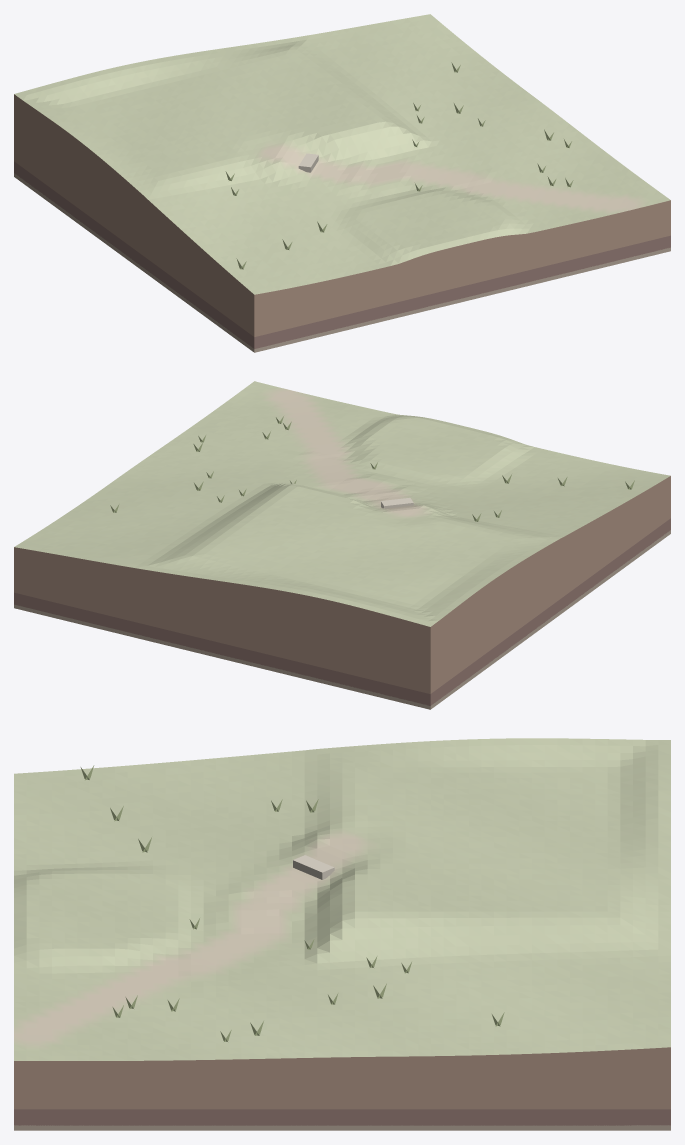
3 views of the same model, one above another, from view 1: azimuth 30°, elevation 25°; view 2: azimuth 150°, elevation 25°; view 3: azimuth 270°, elevation 25° (orthographic). The views are drawn at different scales.
Visible parts, largest first — view 1: proc_ground, proc_skirt, proc_grass; view 2: proc_ground, proc_skirt, proc_grass; view 3: proc_ground, proc_skirt, proc_grass, proc_steps.
Part boxes in pixels (x1,y1,x2,y2): proc_ground: [14, 14, 670, 294]; proc_skirt: [14, 94, 670, 352]; proc_grass: [225, 62, 573, 269]; proc_ground: [14, 381, 670, 626]; proc_skirt: [14, 476, 670, 709]; proc_grass: [110, 416, 634, 521]; proc_ground: [14, 738, 670, 1060]; proc_skirt: [14, 1047, 670, 1130]; proc_grass: [80, 765, 504, 1041]; proc_steps: [293, 855, 334, 879].
Bounding box in the file's own units: 8 × 1.56 × 8.
